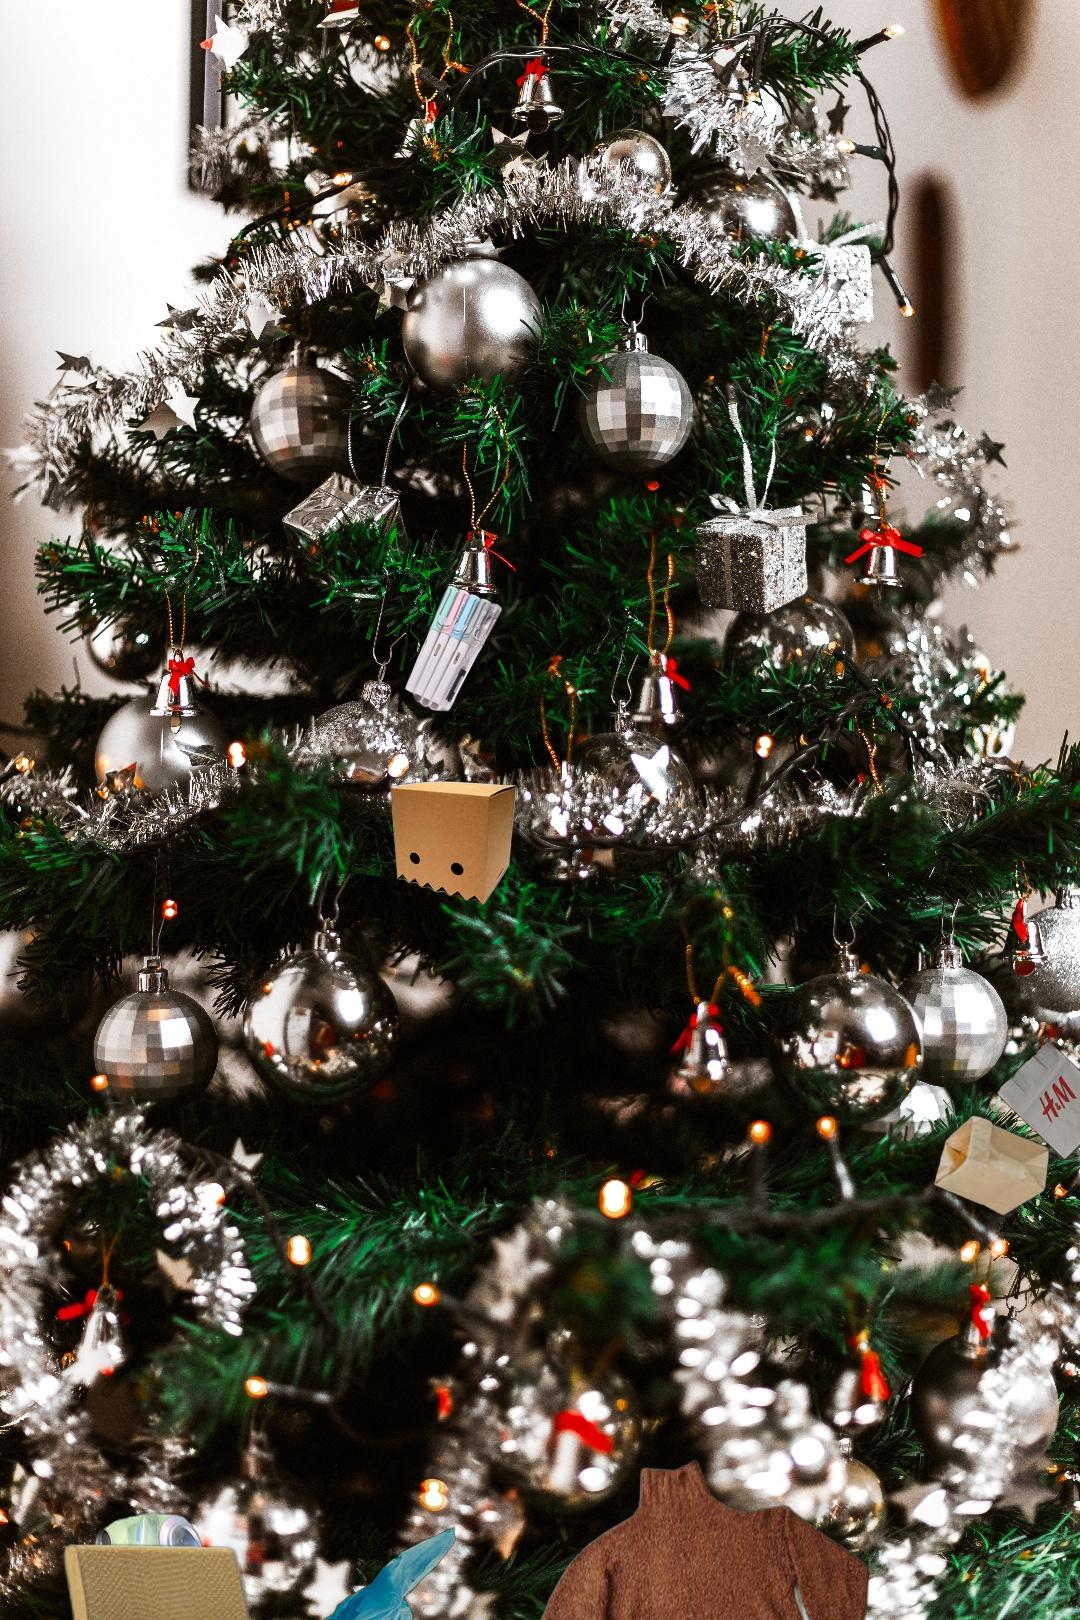clothes: (515, 1455, 876, 1620)
metal-cans: (89, 1507, 523, 1620)
paper-bag: (931, 1035, 1080, 1219)
penholder: (391, 583, 505, 714)
plastic-bag: (312, 1524, 458, 1620)
trashbox-cardboard: (57, 1540, 397, 1620), (387, 777, 520, 908)
